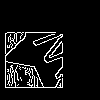W: (25, 20, 87, 86)
